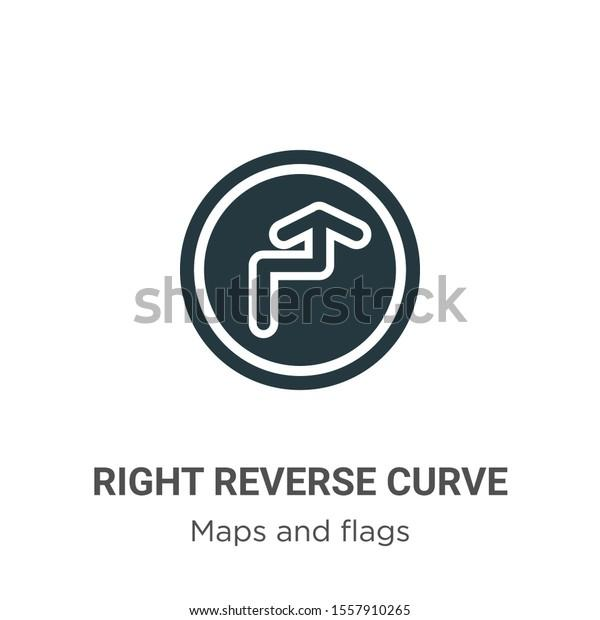Right Reverse Bend: (156, 135, 471, 385)
